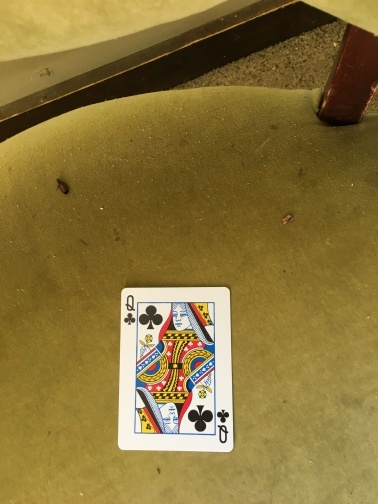queen: (120, 288, 230, 451)
